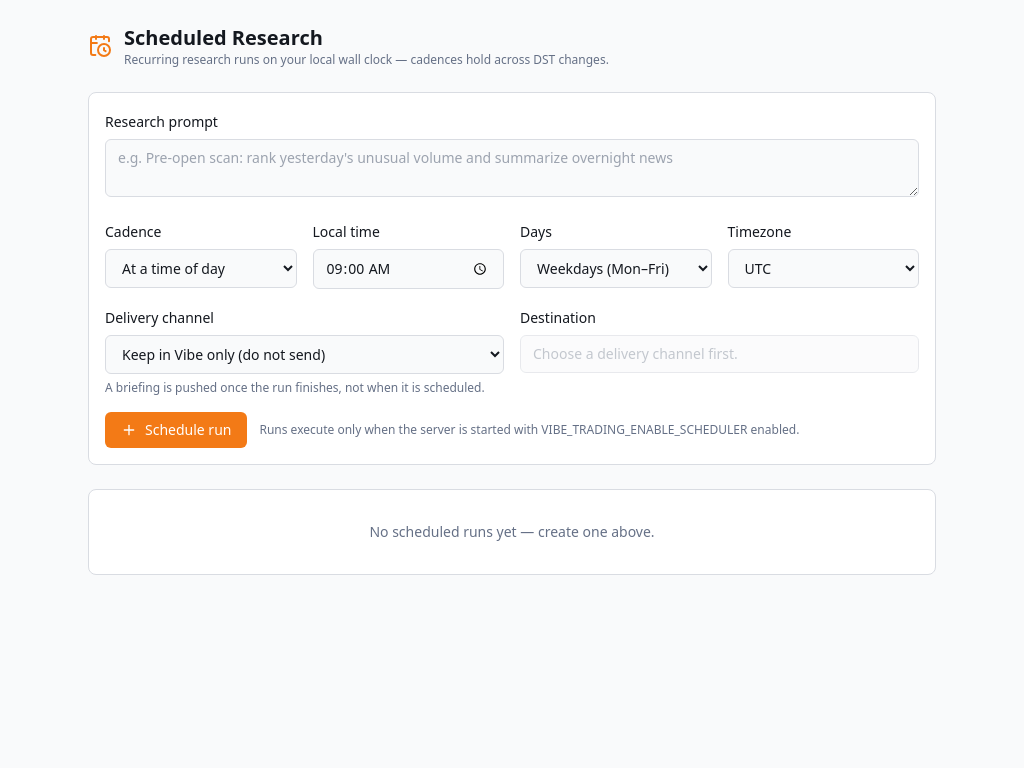
Test: Scheduled page › keeps PDF protection unavailable until the Email secret is configured
The width and height of the screenshot is (1024, 768).
Expected: the text "No scheduled runs yet — create one above." is shown, left=369, top=522, right=655, bottom=541
Replace the text in the text box labelled "Research prompt" with "send a report" at {"x": 512, "y": 168}, box left=105, top=139, right=919, bottom=197
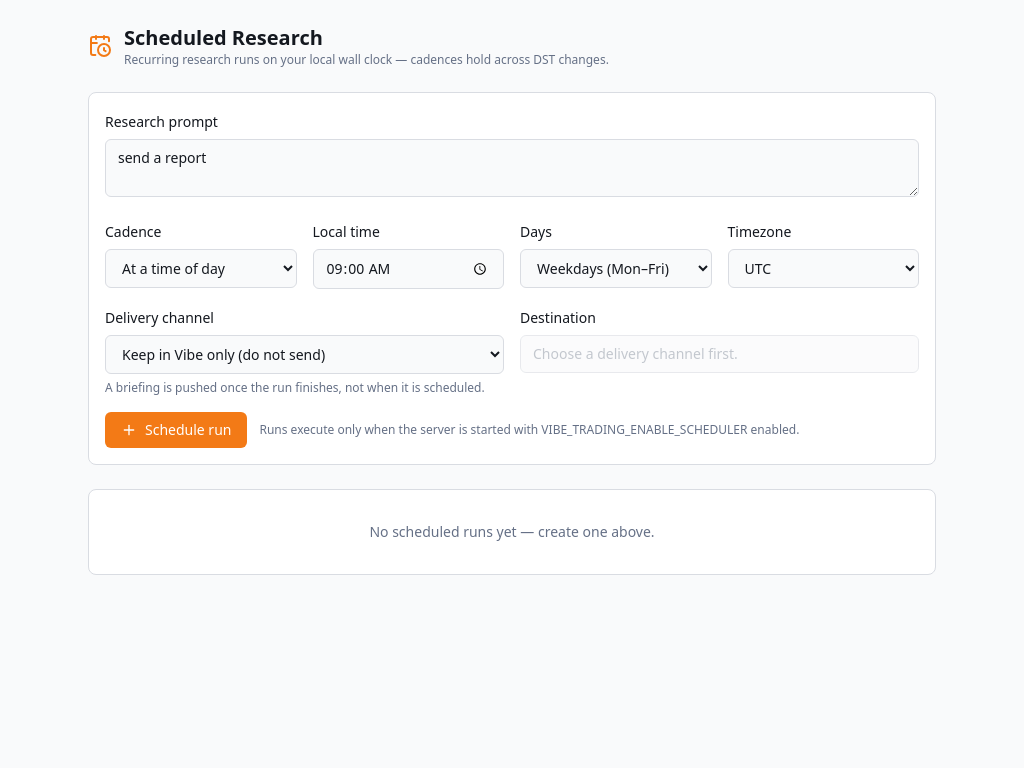
Select "Email" in the dropdown labelled "Delivery channel" at {"x": 304, "y": 354}, box left=105, top=335, right=504, bottom=374
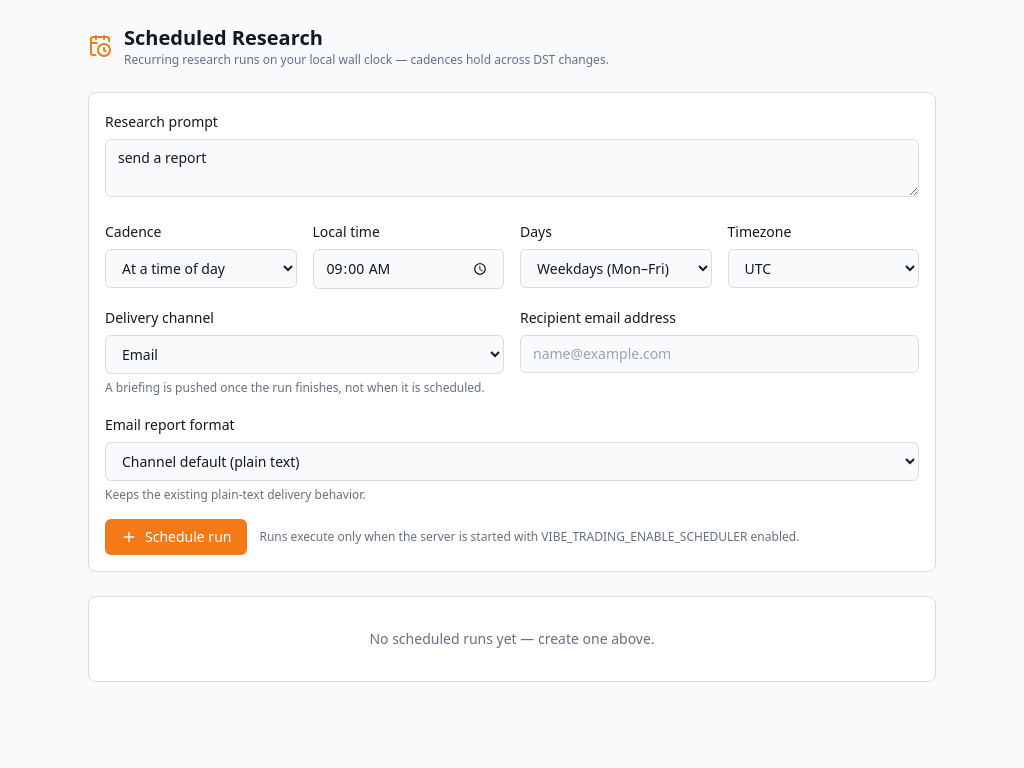
Type "reader@example.test" into the field labelled "Recipient email address" at {"x": 720, "y": 354}, box left=520, top=335, right=919, bottom=373
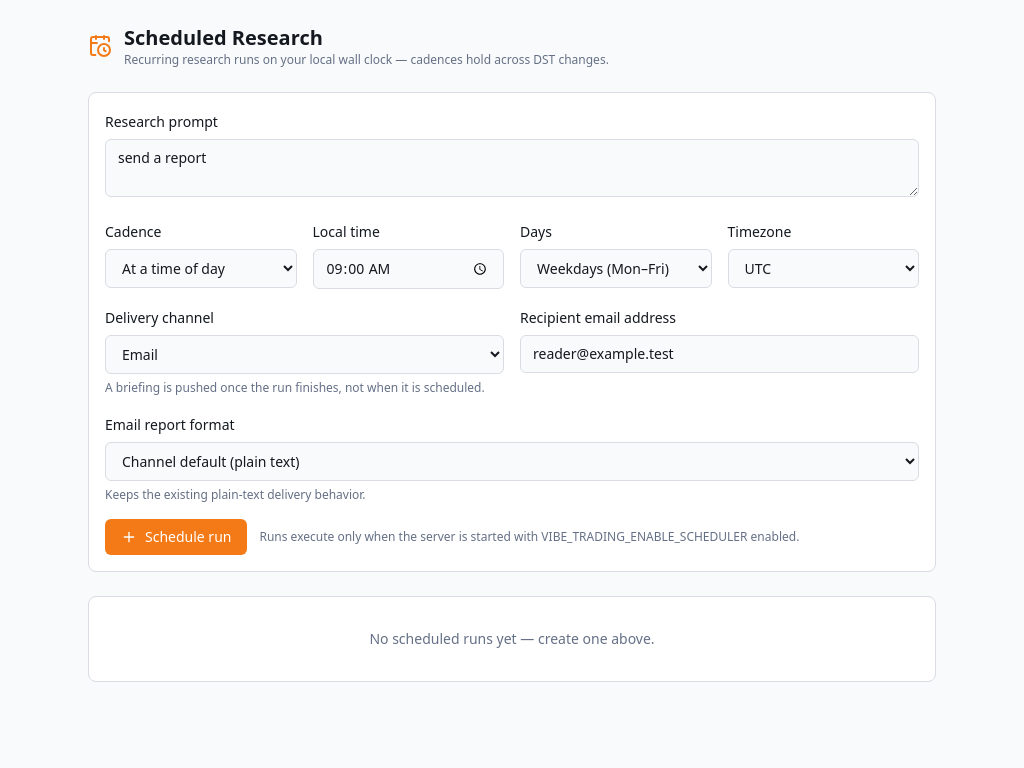
Select "PDF attachment" in the dropdown labelled "Email report format" at {"x": 512, "y": 462}, box left=105, top=442, right=919, bottom=481
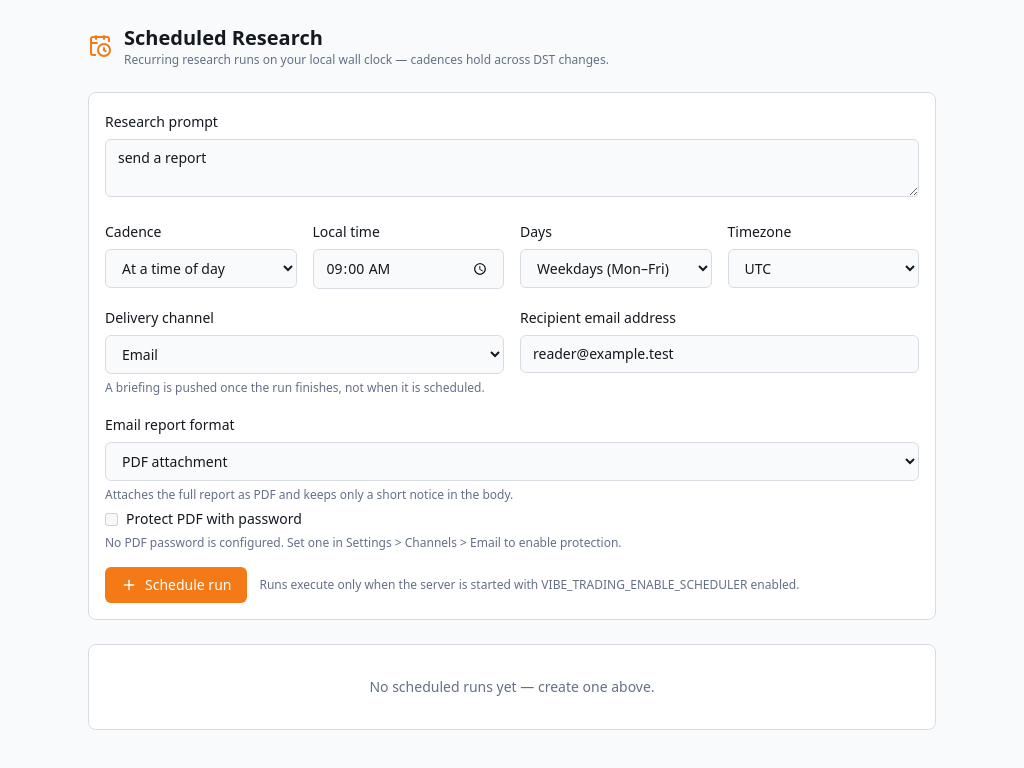
Expected: the checkbox labelled "Protect PDF with password" is disabled, left=105, top=512, right=118, bottom=526
Expected: the text "No PDF password is configured" is shown, left=105, top=534, right=622, bottom=551
